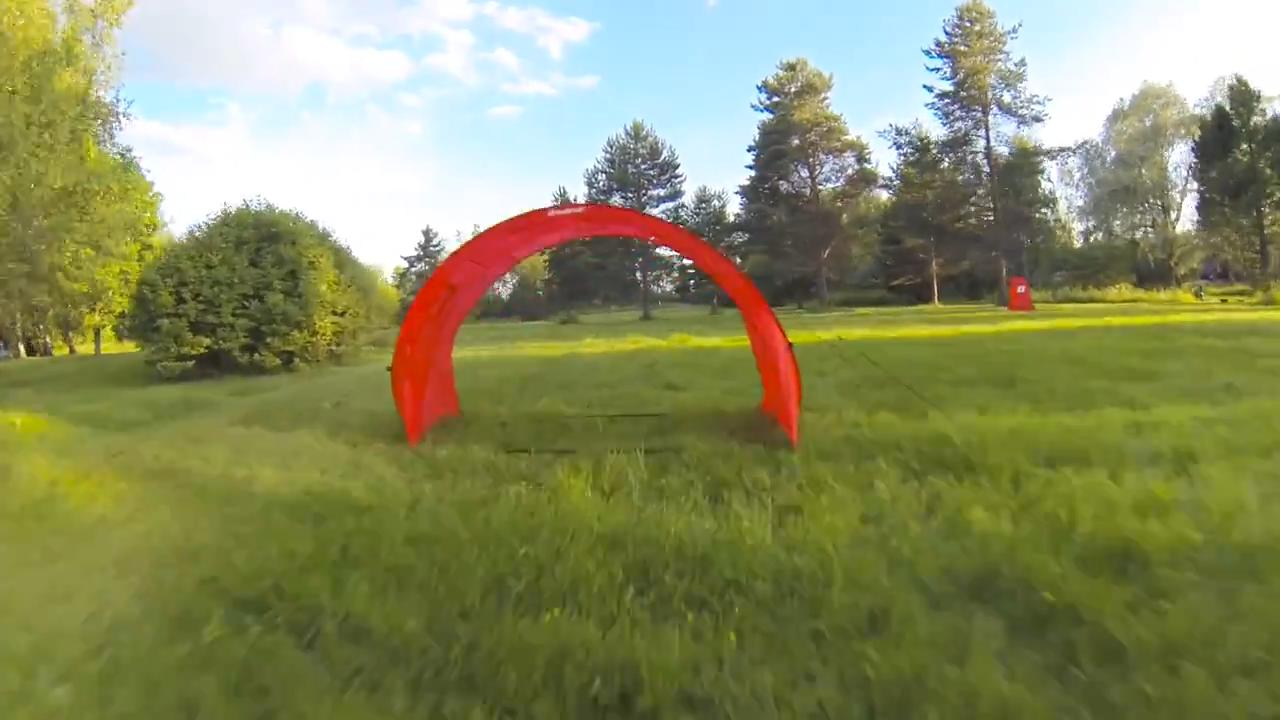gate: (390, 197, 802, 447)
